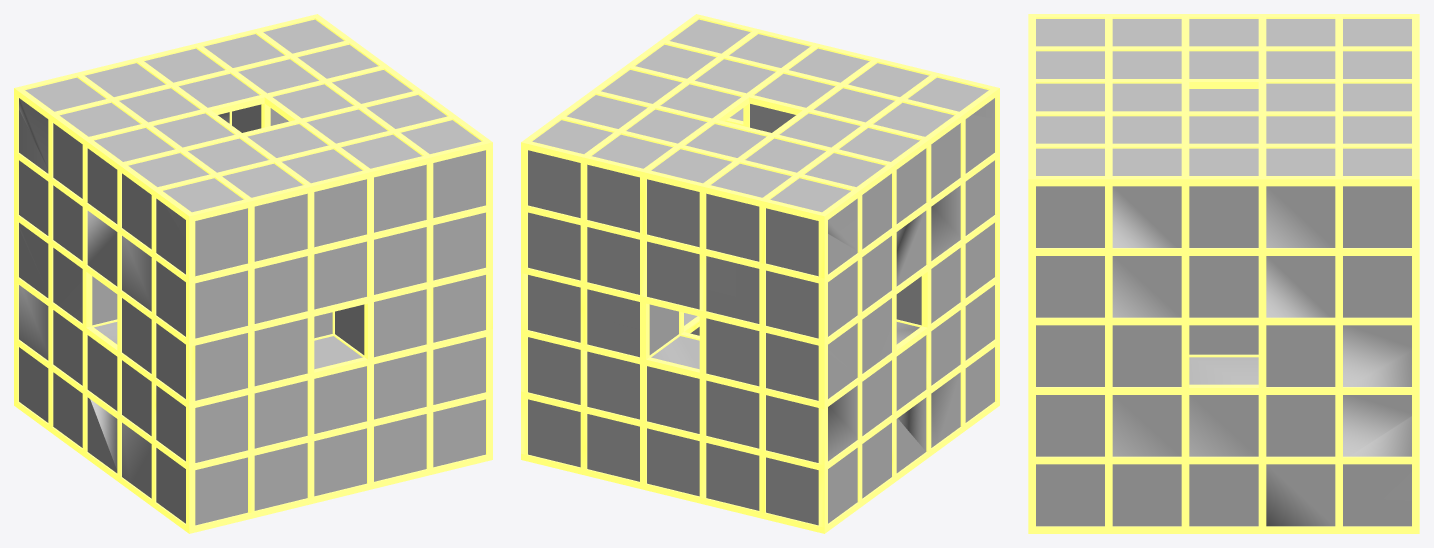
The picture shows the model from 3 angles, left to right: view 1: azimuth 30°, elevation 25°; view 2: azimuth 150°, elevation 25°; view 3: azimuth 270°, elevation 25°; orthographic projection. The views are drawn at different scales.
Visible parts, largest first — view 1: Box931, Box1783, Box1250, Box086; view 2: Box931, Box1783, Box1250, Box086; view 3: Box931, Box1783, Box1250, Box086.
Part boxes in pixels (x1,y1,x2,y2): Box931: (19, 19, 485, 525); Box1783: (14, 16, 492, 533); Box1250: (14, 14, 492, 532); Box086: (92, 104, 364, 369); Box931: (528, 19, 994, 525); Box1783: (521, 16, 999, 533); Box1250: (521, 14, 999, 533); Box086: (649, 104, 921, 369); Box931: (1036, 19, 1411, 526); Box1783: (1028, 14, 1419, 533); Box1250: (1028, 14, 1419, 533); Box086: (1189, 89, 1258, 384).
Bounding box in the file's own units: 102 × 102 × 102.
